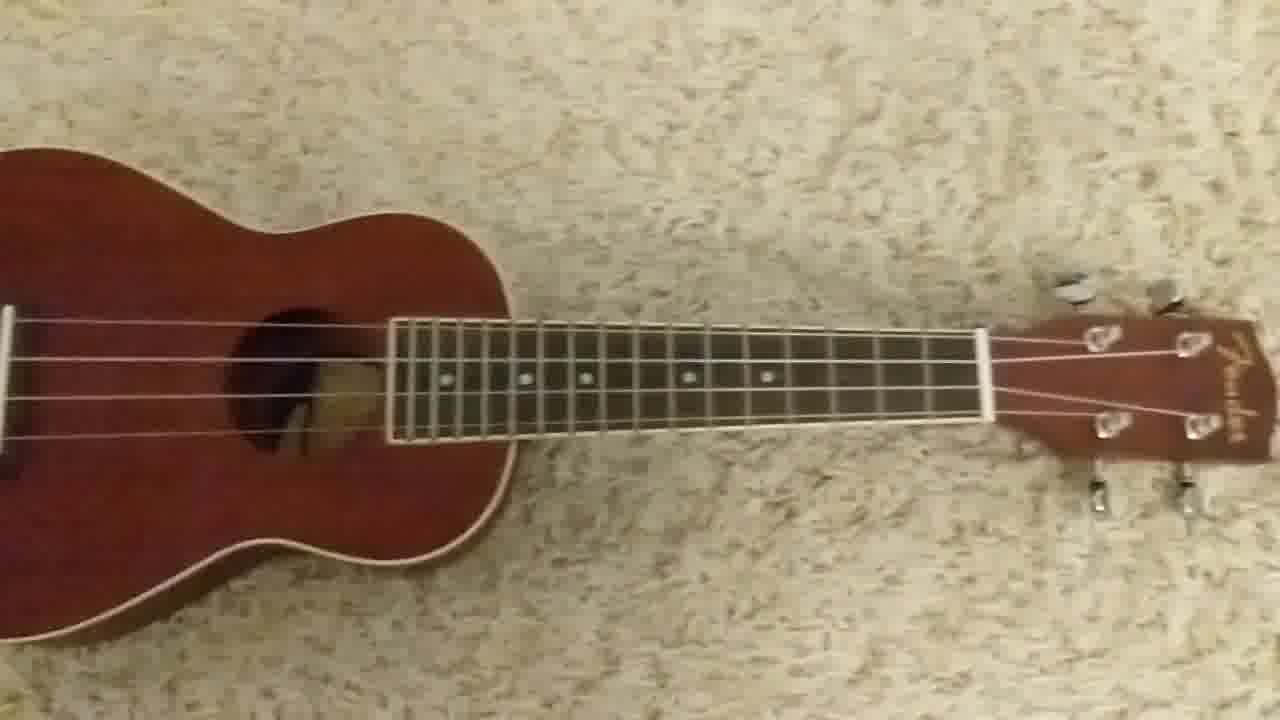Body: (1, 135, 525, 647)
Bridge: (1, 303, 24, 466)
Headstock: (991, 267, 1277, 521)
